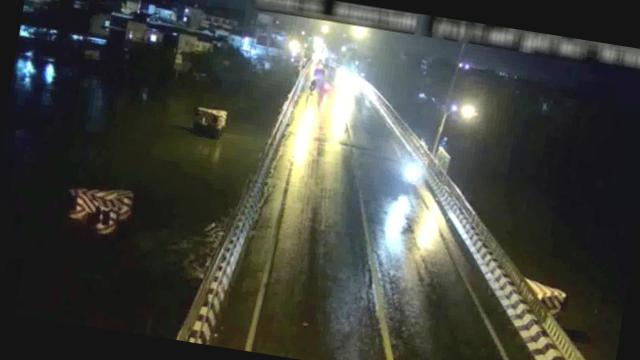Bike: (399, 156, 426, 185)
